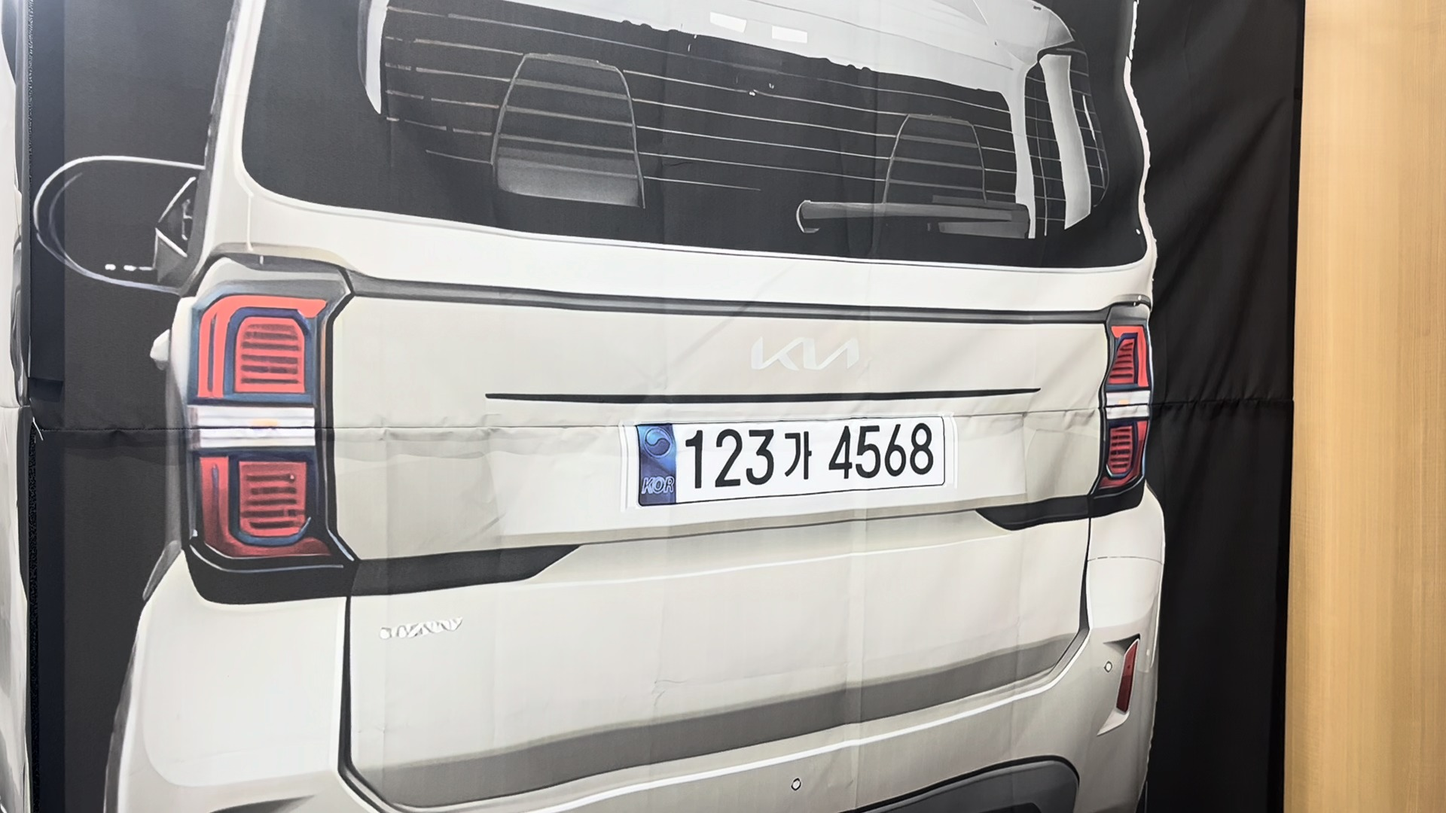car_emblem: (752, 337, 859, 370)
license_plate: (636, 417, 949, 505)
side_mirror: (32, 157, 202, 292)
tail_light: (187, 276, 351, 600), (1096, 309, 1151, 495)
